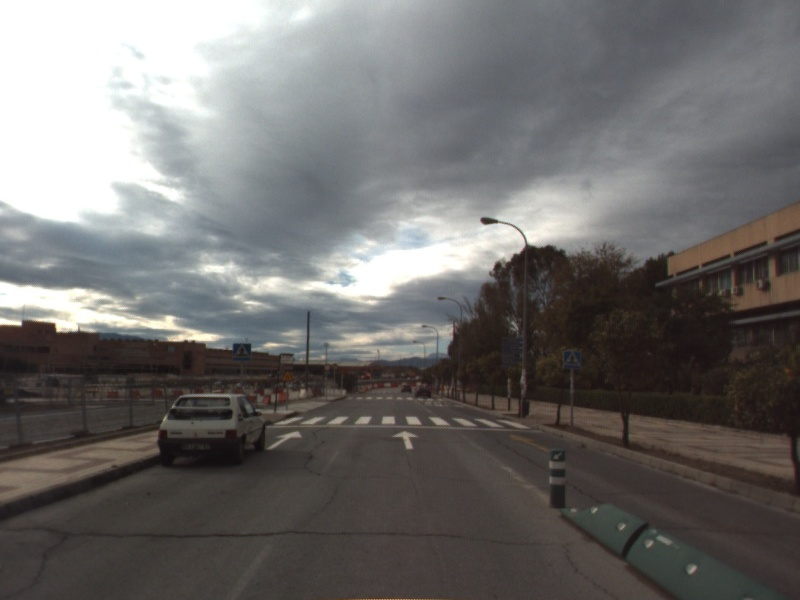STRAIGHT: (508, 432, 551, 454), (264, 429, 304, 452), (390, 428, 421, 451)
